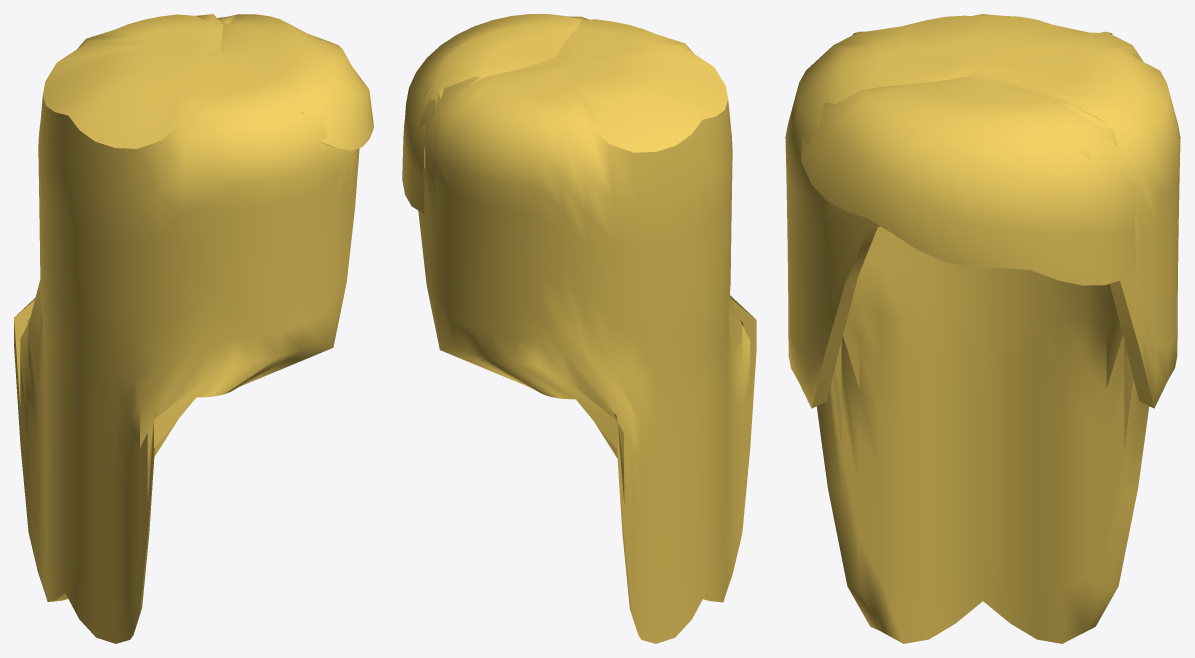
Rendered from acc_hair_long.glb.
3 renders of one model, left to right at view 1: azimuth 30°, elevation 25°; view 2: azimuth 150°, elevation 25°; view 3: azimuth 270°, elevation 25°, orthographic. The views are drawn at different scales.
Visible parts, largest first — view 1: Hair; view 2: Hair; view 3: Hair.
Part boxes in pixels (bbox=[...]): Hair: bbox=[14, 14, 373, 643]; Hair: bbox=[402, 14, 756, 643]; Hair: bbox=[785, 14, 1180, 643].
Size of the model in its own units: 0.5097 by 0.889 by 0.4898.
